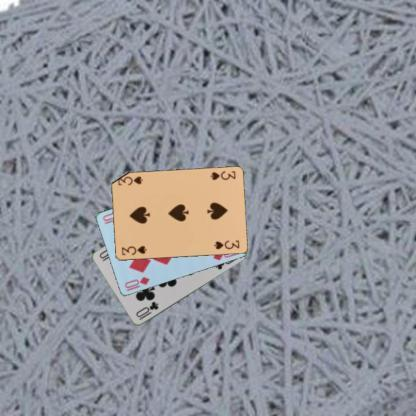10c: (132, 300, 160, 322)
10d: (122, 274, 151, 292)
3s: (118, 243, 147, 257), (208, 168, 236, 182)
